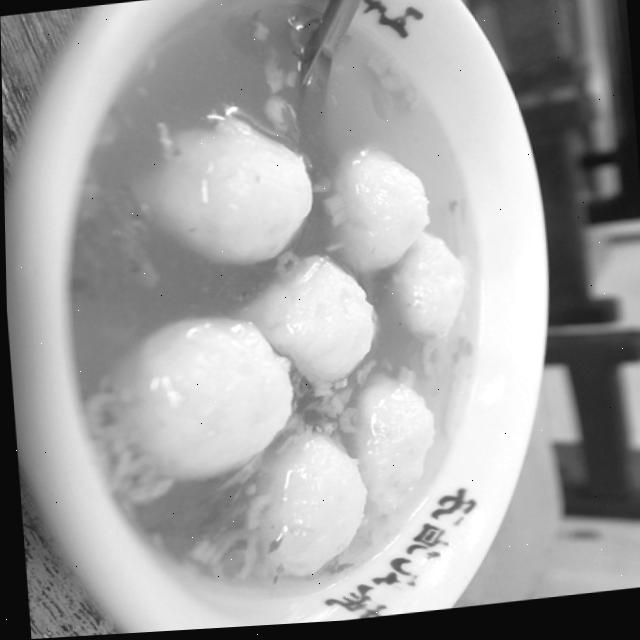熟制海鲜: (0, 0, 596, 640)
